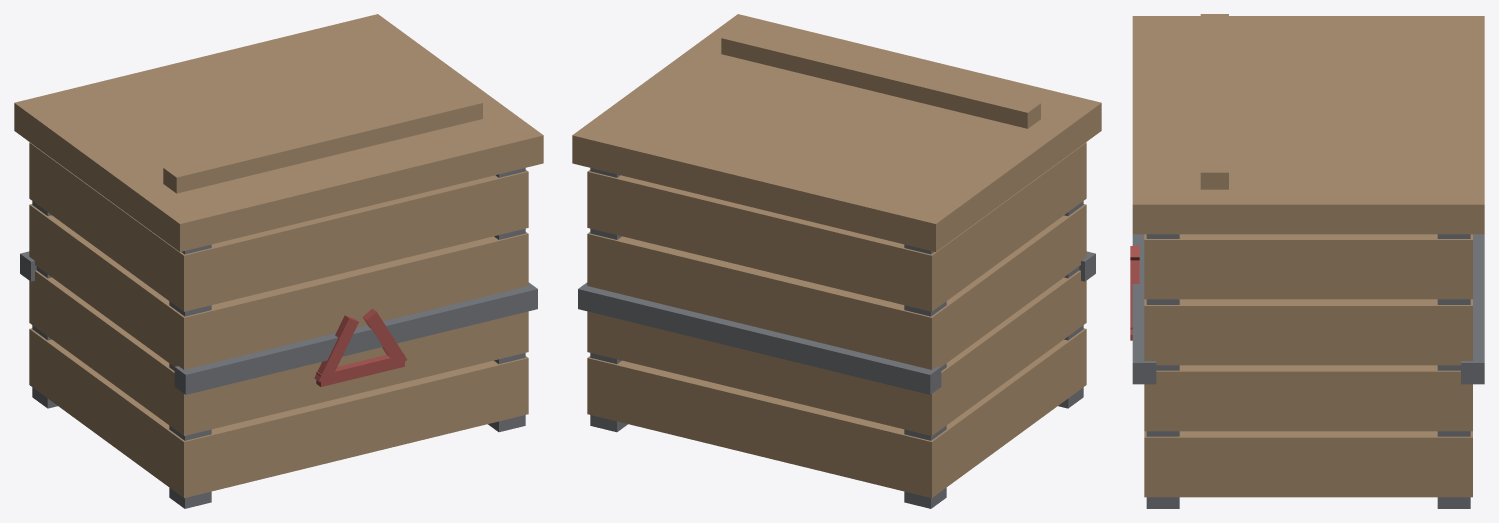
3 renders of one model, left to right at view 1: azimuth 30°, elevation 25°; view 2: azimuth 150°, elevation 25°; view 3: azimuth 270°, elevation 25°, orthographic. The views are drawn at different scales.
Parts seen in each view (by area): view 1: shipping-crate, crate-lid; view 2: shipping-crate, crate-lid; view 3: shipping-crate, crate-lid.
Boxes of the visible parts, x1,y1,x2,y2 form: shipping-crate: (20,142,537,508); crate-lid: (14,14,543,251); shipping-crate: (578,142,1095,508); crate-lid: (572,14,1101,251); shipping-crate: (1130,234,1484,508); crate-lid: (1132,14,1484,234).
Bounding box in the file's own units: 0.95 × 0.77 × 0.755.
